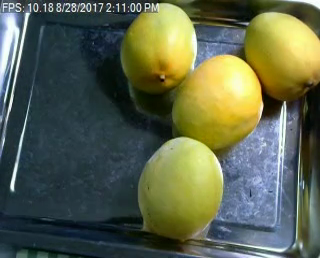Mango: (138, 136, 224, 241), (172, 56, 265, 147), (118, 1, 198, 91), (244, 9, 320, 99)
